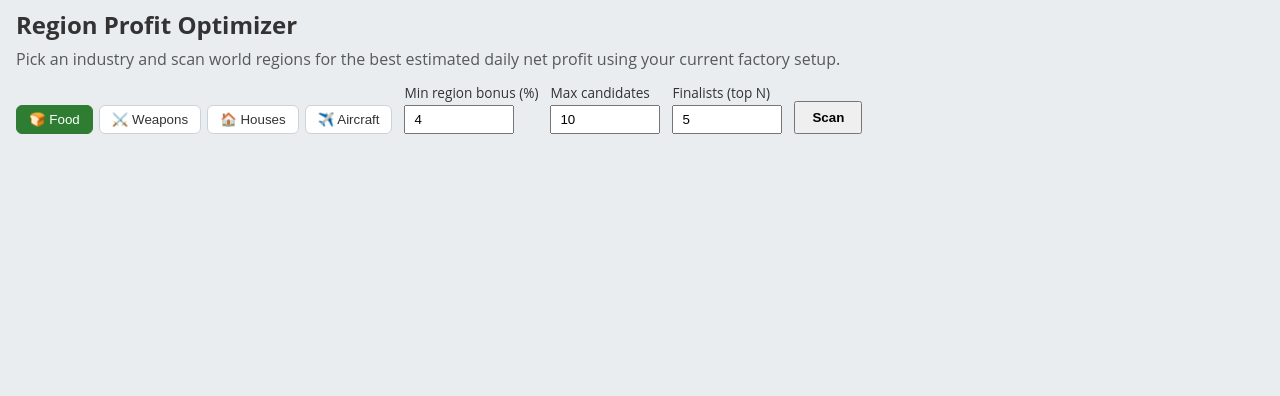
Test: OptimizerView › renders the baseline net caption
The width and height of the screenshot is (1280, 396).
Click the button with test id "optimizer-scan" at (828, 118), box [794,101,862,134]
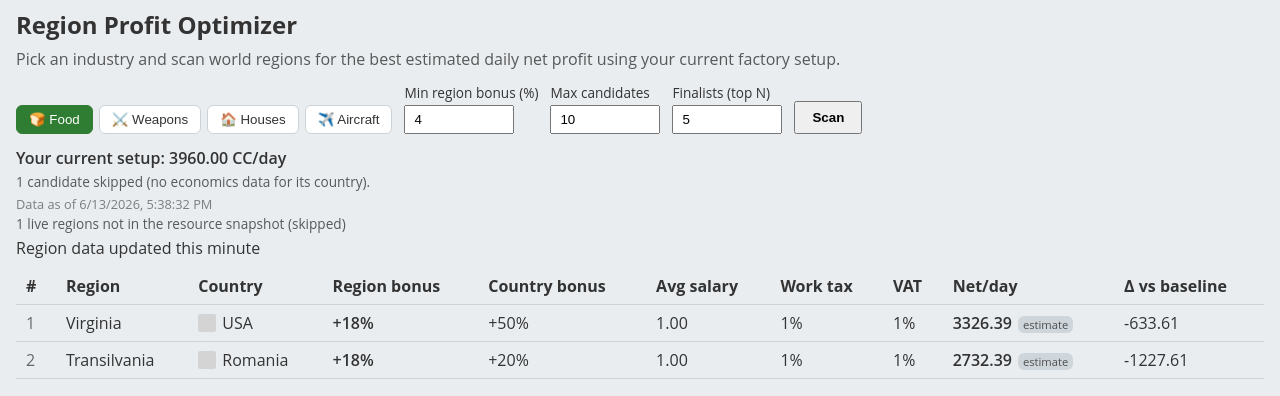
expect the text "Your current setup: 3960.00 CC/day" is shown: met, box [16,147,286,169]
